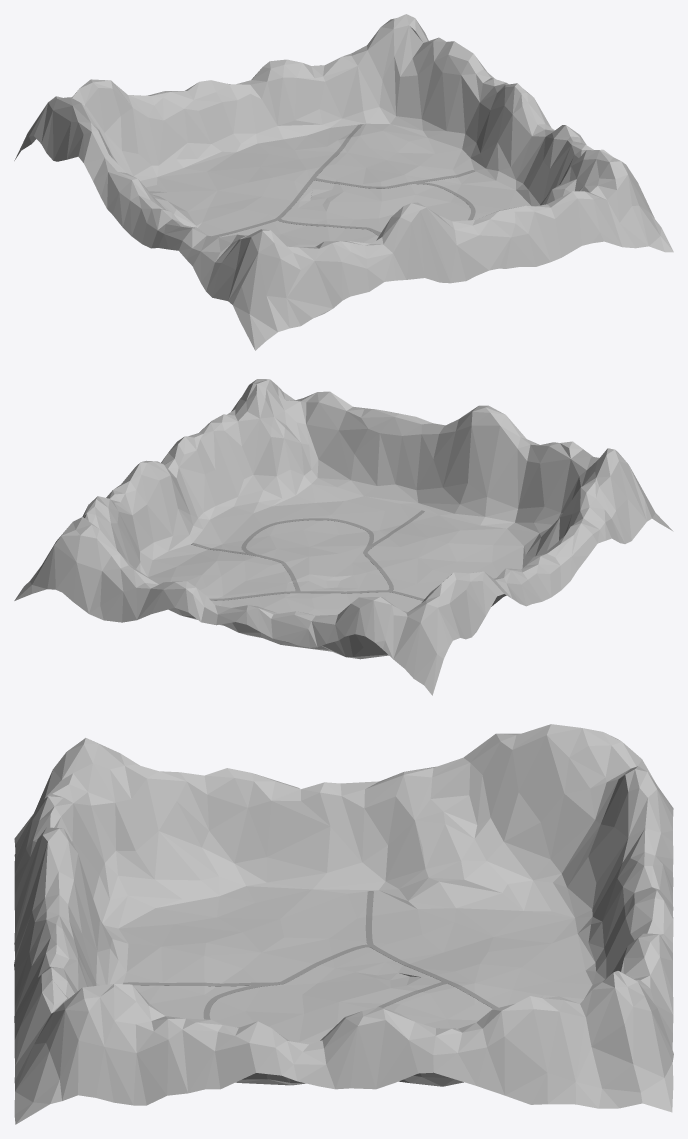
Rendered from TerrainFull.fbx.
3 views of the same model, one above another, from view 1: azimuth 30°, elevation 25°; view 2: azimuth 150°, elevation 25°; view 3: azimuth 270°, elevation 25° (orthographic). The views are drawn at different scales.
Visible parts, largest first — view 1: Plane; view 2: Plane; view 3: Plane.
Part boxes in pixels (left/top/right/bottom): Plane: left=14, top=14, right=673, bottom=350; Plane: left=14, top=379, right=673, bottom=695; Plane: left=14, top=724, right=673, bottom=1124.
Size of the model in its own units: 97700 by 22574 by 97745.
1 material, 1 textured.
